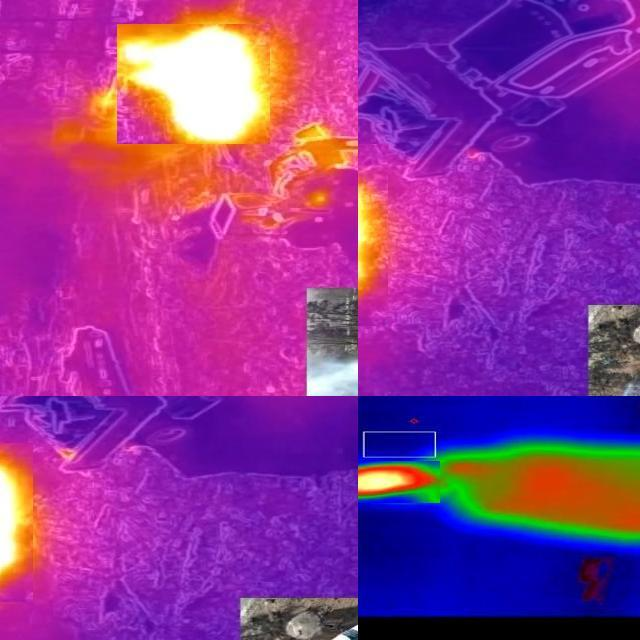fire: (118, 24, 271, 144), (1, 445, 40, 596), (351, 188, 392, 305), (359, 461, 441, 503)
